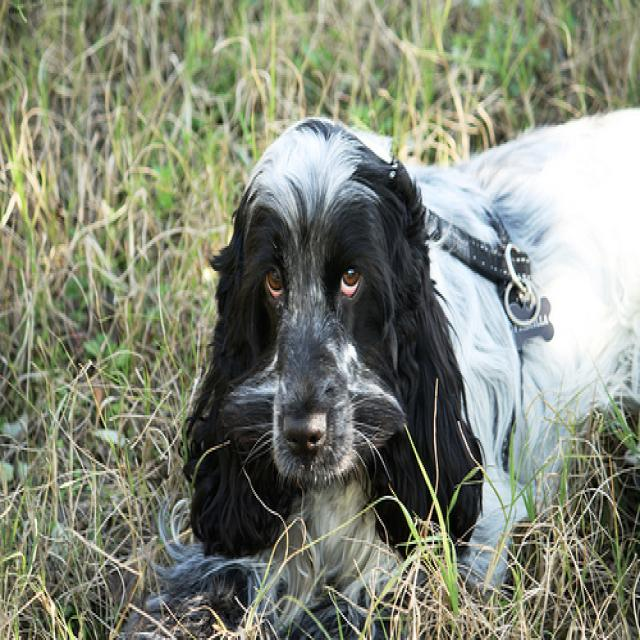dog-english_cocker_spaniel: (111, 94, 637, 636)
